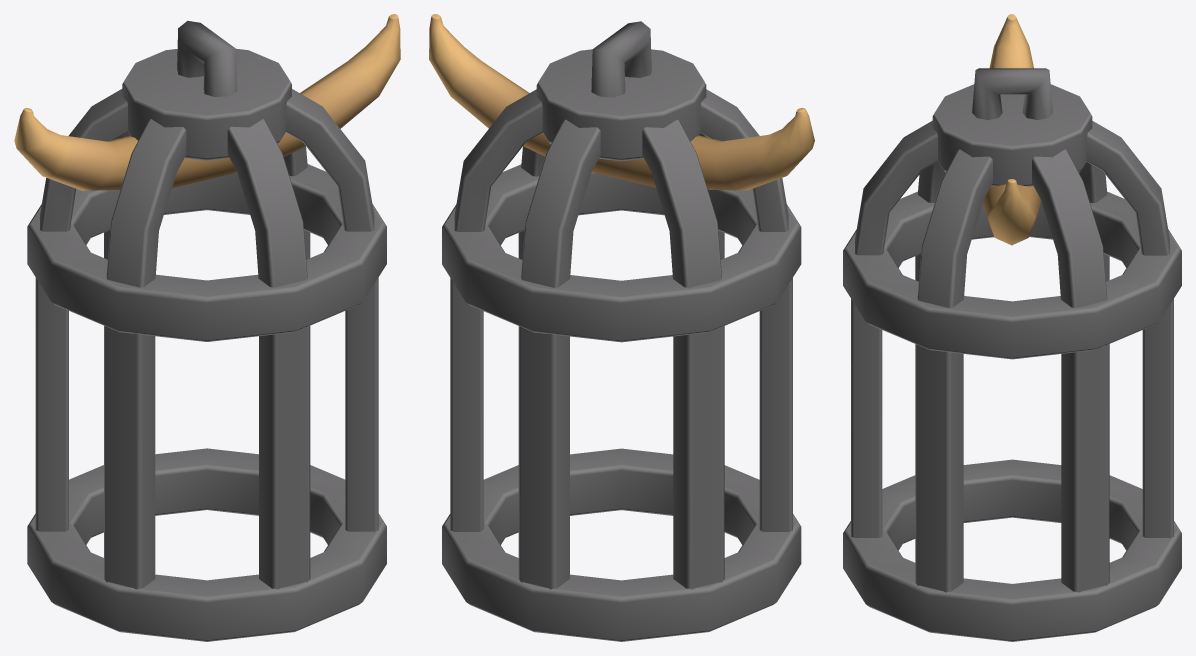
File: Cage_1.fbx
3 renders of one model, left to right at view 1: azimuth 30°, elevation 25°; view 2: azimuth 150°, elevation 25°; view 3: azimuth 270°, elevation 25°, orthographic. The views are drawn at different scales.
Visible parts, largest first — view 1: Cage_1; view 2: Cage_1; view 3: Cage_1.
Boxes of the visible parts, box(x1,y1,x2,y2) form: Cage_1: box(14, 14, 400, 641); Cage_1: box(429, 14, 814, 641); Cage_1: box(843, 14, 1181, 641).
Bounding box in the file's own units: 131 × 175 × 107.
